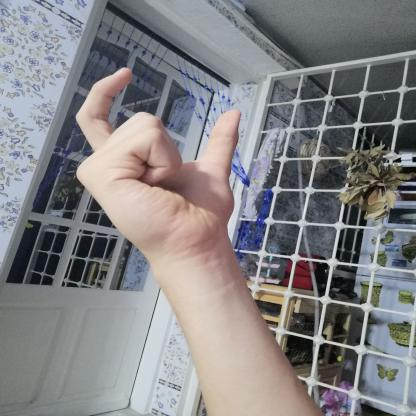NOON: (56, 58, 255, 267)
